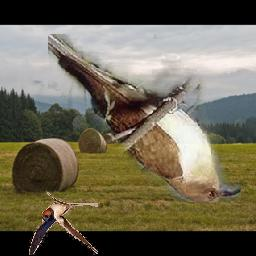Cuckoo: (49, 34, 242, 202)
Swallow: (30, 191, 99, 255)
